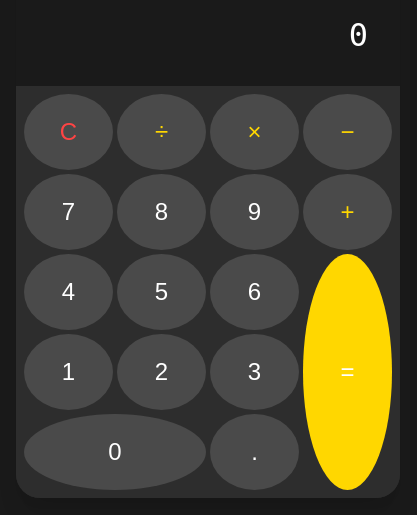
Test: updates input on number button click
The width and height of the screenshot is (417, 515).
Click the button with test id "button-1": [68, 372] box [24,334,113,410]
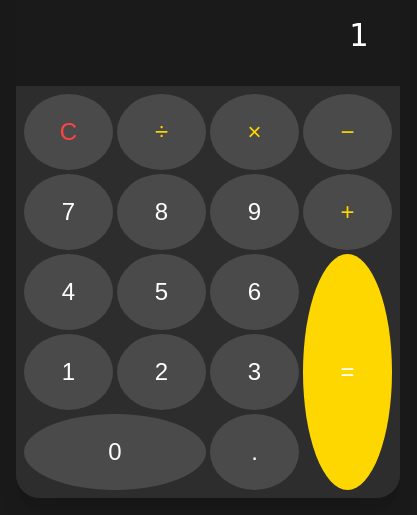
Now the text with test id "result" reads "1", box [349,16,368,54]
Click the button with test id "button-2": [162, 372] box [117,334,206,410]
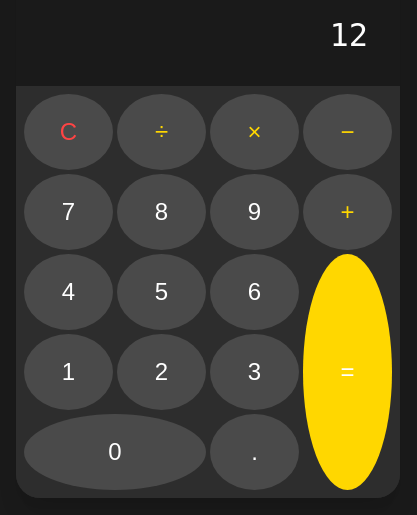
Now the text with test id "result" reads "12", box [330,16,368,54]
